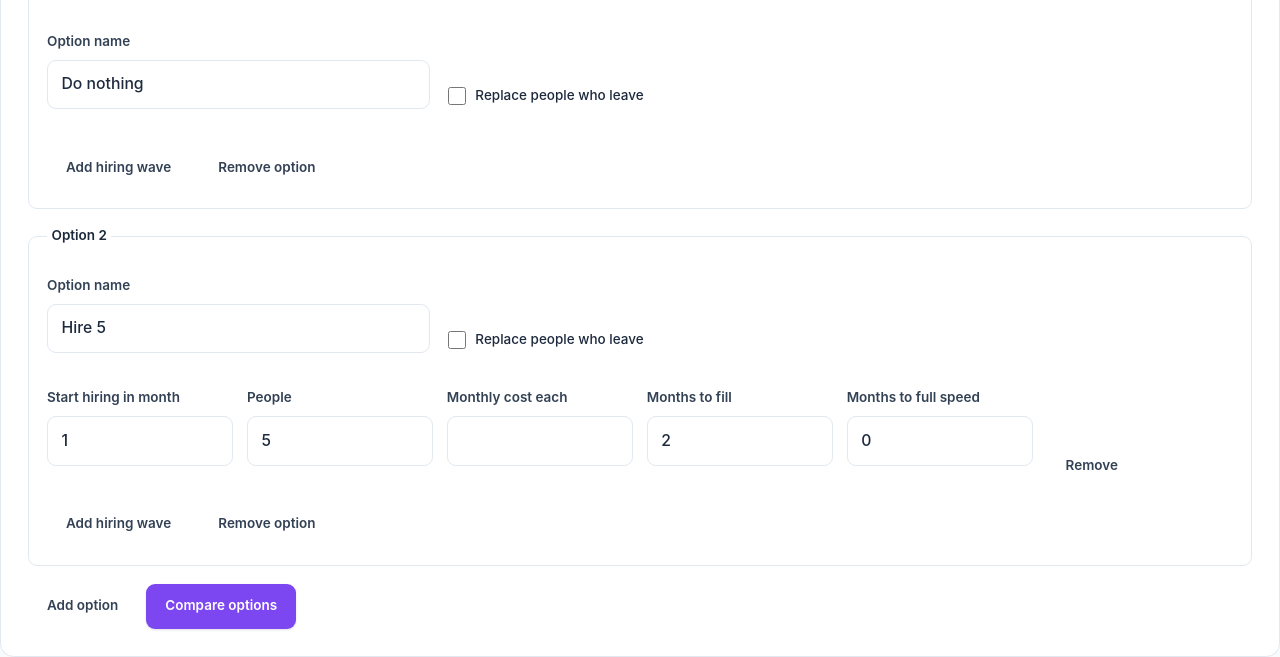
Test: limits the form to four options
The width and height of the screenshot is (1280, 657).
(page scrolled)
Click the button "Add option". click: (83, 606)
box: [28, 584, 137, 629]
(page scrolled)
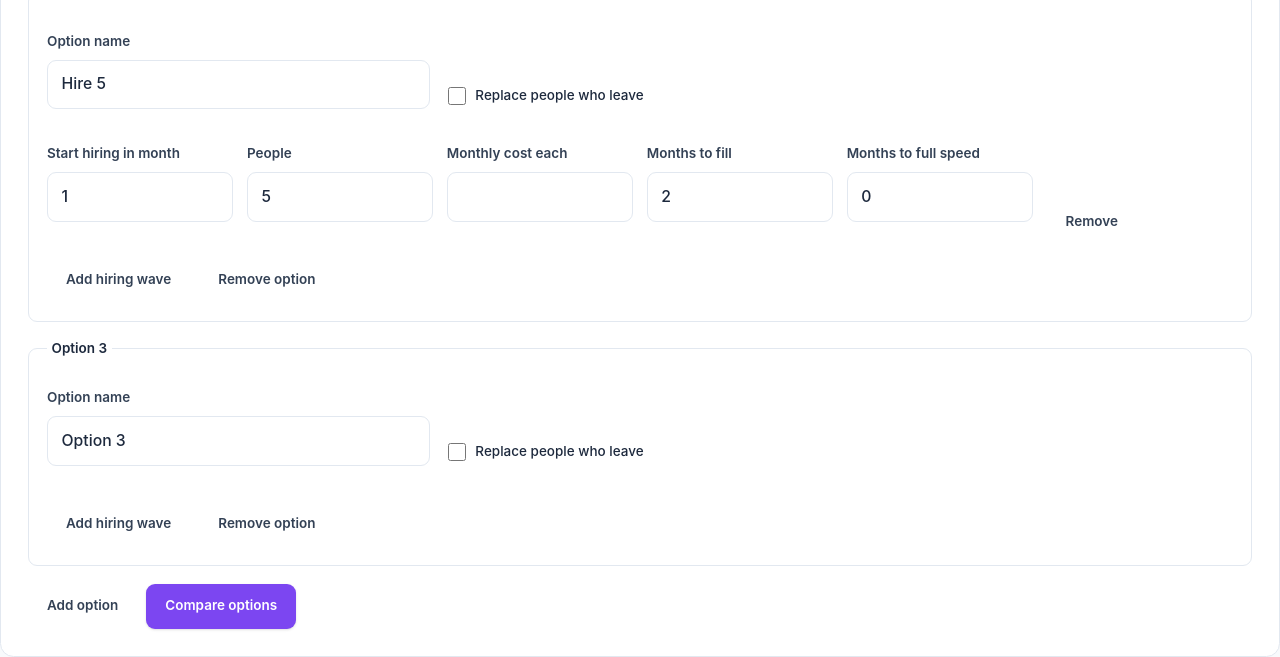
Click the button "Add option". click: (83, 606)
box: [28, 584, 137, 629]
(page scrolled)
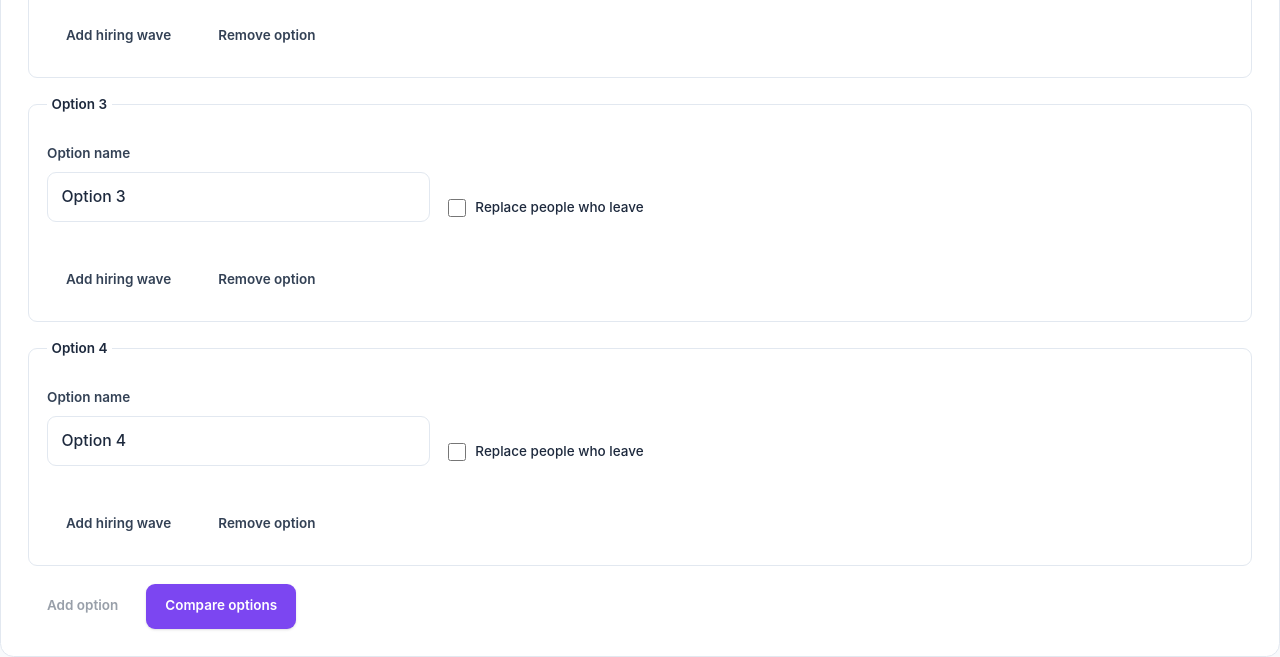
Expected: the button "Add option" is disabled, [28, 584, 137, 629]
